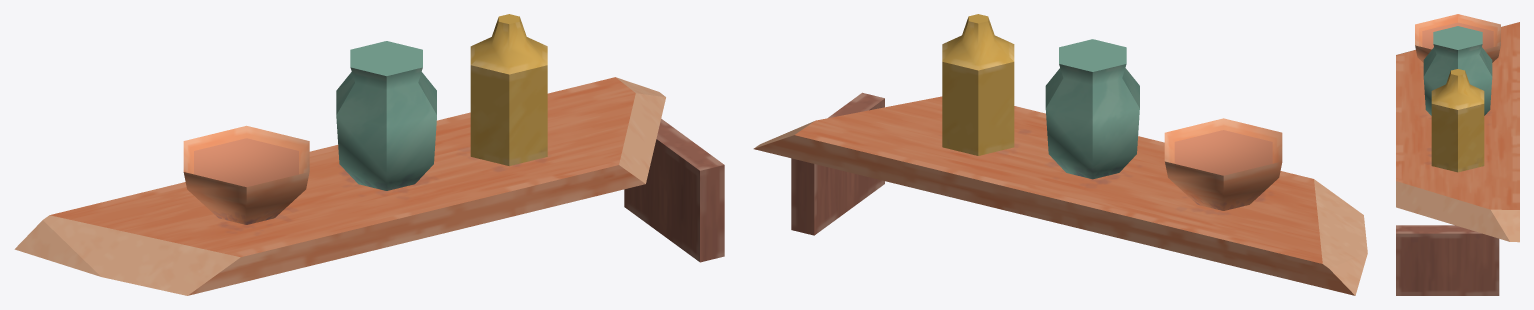
File: shelf_s02.fbx
3 renders of one model, left to right at view 1: azimuth 30°, elevation 25°; view 2: azimuth 150°, elevation 25°; view 3: azimuth 270°, elevation 25°, orthographic. The views are drawn at different scales.
Visible parts, largest first — view 1: shelf_s02; view 2: shelf_s02; view 3: shelf_s02.
Boxes of the visible parts, <box> form: shelf_s02: <box>14,14,724,295</box>; shelf_s02: <box>753,14,1367,295</box>; shelf_s02: <box>1396,14,1519,295</box>.
Size of the model in its own units: 3.68 by 1.34 by 0.9.
